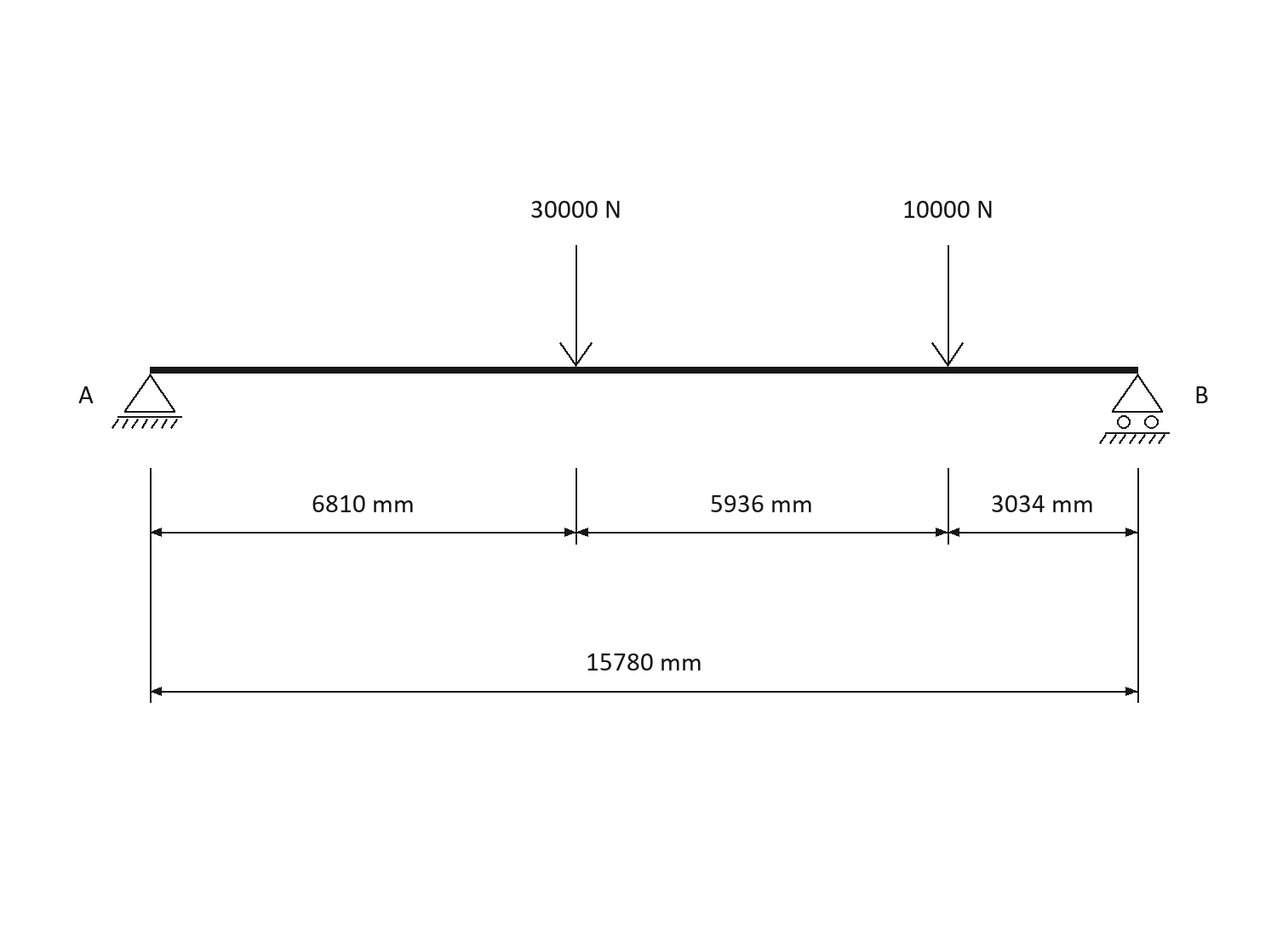pin_support: (112, 374, 182, 429)
point_load: (559, 245, 593, 367), (931, 245, 964, 367)
roller_support: (1099, 374, 1170, 444)
